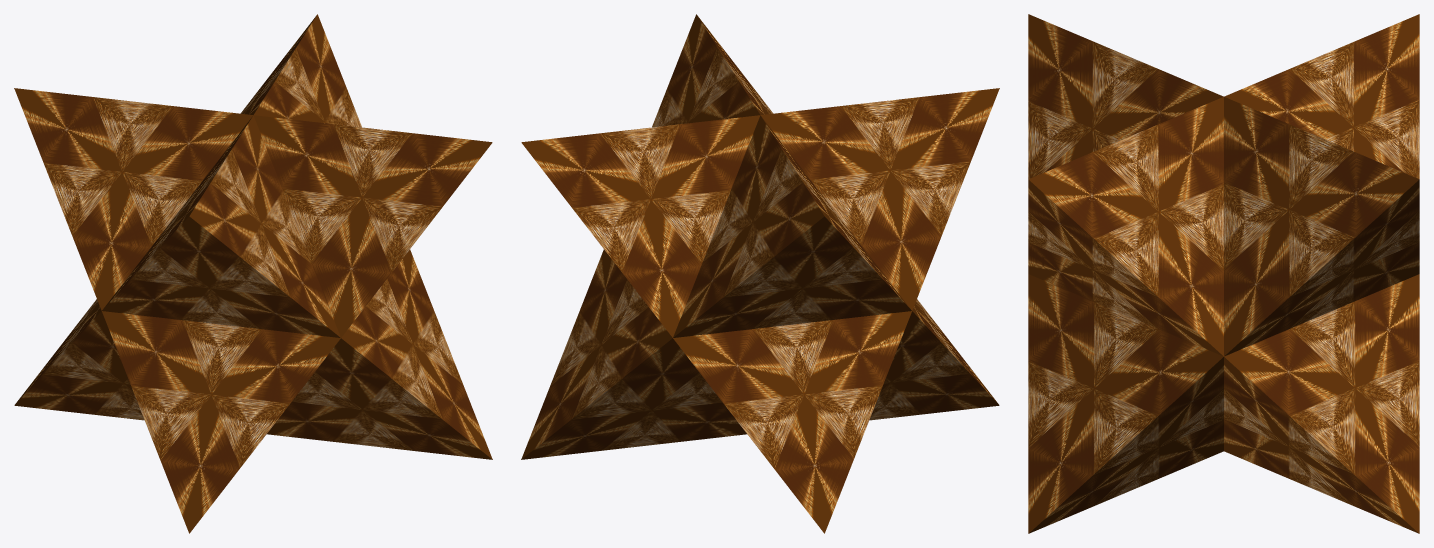
The model's file is 20StellaOctangula.obj.
The picture shows the model from 3 angles, left to right: view 1: azimuth 30°, elevation 25°; view 2: azimuth 150°, elevation 25°; view 3: azimuth 270°, elevation 25°; orthographic projection. The views are drawn at different scales.
Bounding box in the file's own units: 0.7071 × 0.7071 × 0.7071.
1 material, 1 textured.
